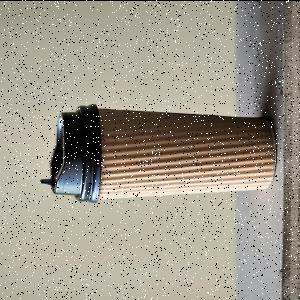Cup: (40, 104, 278, 204)
